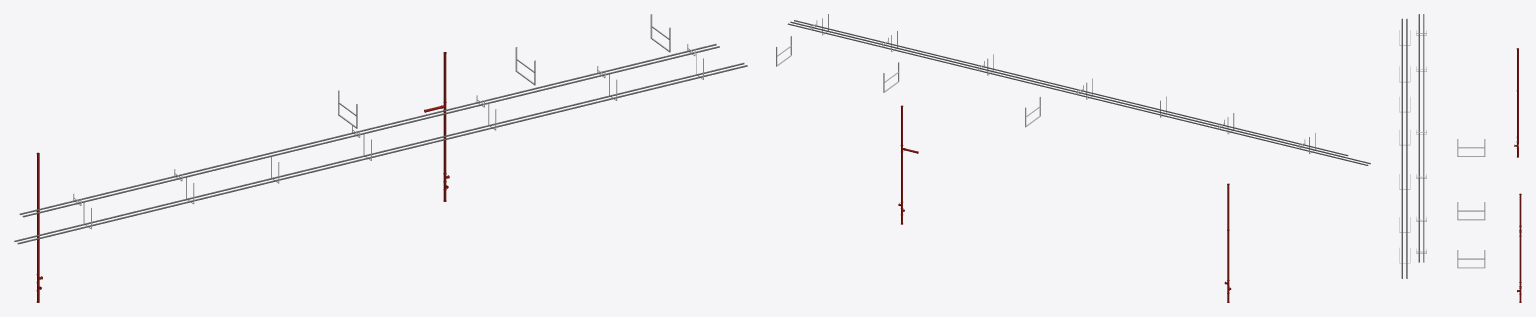
Rendered from SM_H_Building_Tide_Corridor_06H_ATLAS.fbx.
The picture shows the model from 3 angles, left to right: view 1: azimuth 30°, elevation 25°; view 2: azimuth 150°, elevation 25°; view 3: azimuth 270°, elevation 25°; orthographic projection. The views are drawn at different scales.
Parts seen in each view (by area): view 1: SM_H_Building_Tide_Corridor_06H_ATLAS; view 2: SM_H_Building_Tide_Corridor_06H_ATLAS; view 3: SM_H_Building_Tide_Corridor_06H_ATLAS.
Part boxes in pixels (left/top/right/bottom): SM_H_Building_Tide_Corridor_06H_ATLAS: left=14, top=14, right=747, bottom=302; SM_H_Building_Tide_Corridor_06H_ATLAS: left=776, top=14, right=1370, bottom=302; SM_H_Building_Tide_Corridor_06H_ATLAS: left=1399, top=14, right=1521, bottom=302.
Size of the model in its own units: 5252 by 1047 by 1105.
